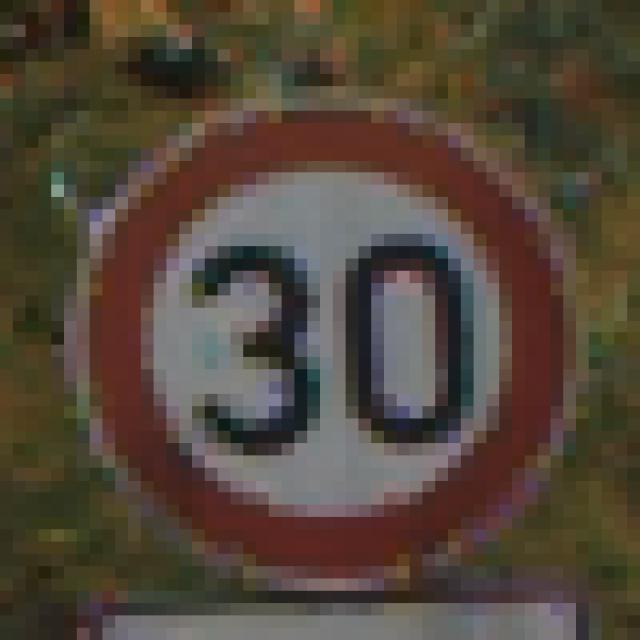Speed Limit -30-: (58, 68, 556, 560)
